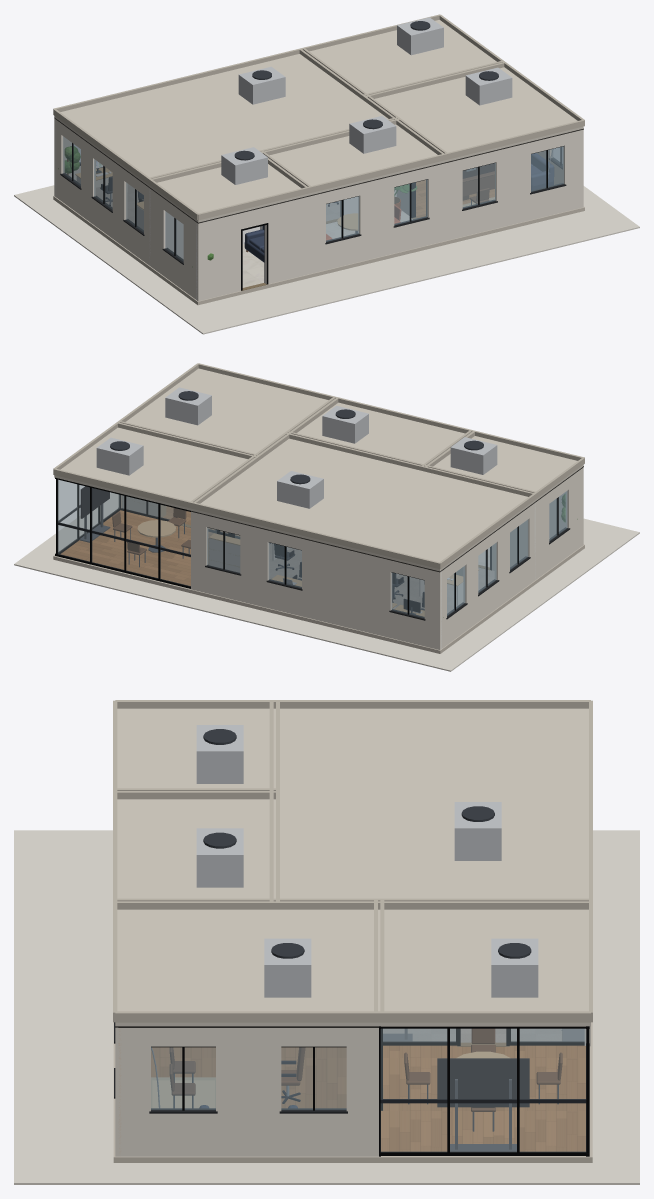
The model's file is sede-compacta.glb.
3 renders of one model, top to bottom at view 1: azimuth 30°, elevation 25°; view 2: azimuth 150°, elevation 25°; view 3: azimuth 270°, elevation 25°, orthographic. The views are drawn at different scales.
Parts seen in each view (by area): view 1: teto_malha, paredes_malha, terreno_malha, janelas_malha, esquadrias_malha, laje_malha, sofa_malha (×2), piso_porcelanato_malha, paredes_topo_malha, mesa-diretor_malha, piso_carpete_malha, piso_madeira_malha; view 2: teto_malha, paredes_malha, terreno_malha, divisorias_vidro_malha, janelas_malha, piso_madeira_malha, esquadrias_malha, laje_malha, piso_carpete_malha, estante_malha (×2), tv-pedestal_malha, paredes_topo_malha (+1 smaller); view 3: teto_malha, terreno_malha, paredes_malha, divisorias_vidro_malha, piso_madeira_malha, janelas_malha, esquadrias_malha, tv-pedestal_malha, laje_malha, piso_carpete_malha, tapete_malha.
Boxes of the visible parts, x1=… form: teto_malha: x1=53, y1=14, x2=584, y2=222; paredes_malha: x1=54, y1=118, x2=583, y2=301; terreno_malha: x1=14, y1=185, x2=639, y2=334; janelas_malha: x1=63, y1=136, x2=563, y2=261; esquadrias_malha: x1=60, y1=143, x2=566, y2=290; laje_malha: x1=53, y1=196, x2=584, y2=305; sofa_malha (×2): x1=244, y1=153, x2=553, y2=262; piso_porcelanato_malha: x1=242, y1=211, x2=412, y2=287; paredes_topo_malha: x1=54, y1=117, x2=583, y2=223; mesa-diretor_malha: x1=463, y1=163, x2=494, y2=200; piso_carpete_malha: x1=96, y1=184, x2=339, y2=223; piso_madeira_malha: x1=416, y1=180, x2=494, y2=217; teto_malha: x1=53, y1=363, x2=584, y2=571; paredes_malha: x1=118, y1=467, x2=583, y2=649; terreno_malha: x1=14, y1=493, x2=639, y2=671; divisorias_vidro_malha: x1=58, y1=479, x2=239, y2=586; janelas_malha: x1=207, y1=491, x2=567, y2=617; piso_madeira_malha: x1=61, y1=506, x2=239, y2=585; esquadrias_malha: x1=55, y1=477, x2=570, y2=620; laje_malha: x1=53, y1=544, x2=584, y2=653; piso_carpete_malha: x1=270, y1=543, x2=494, y2=613; estante_malha (×2): x1=122, y1=495, x2=239, y2=572; tv-pedestal_malha: x1=79, y1=486, x2=110, y2=542; paredes_topo_malha: x1=191, y1=466, x2=583, y2=572; teto_malha: x1=113, y1=700, x2=592, y2=1026; terreno_malha: x1=14, y1=830, x2=639, y2=1184; paredes_malha: x1=115, y1=1026, x2=590, y2=1156; divisorias_vidro_malha: x1=381, y1=1028, x2=585, y2=1151; piso_madeira_malha: x1=151, y1=1045, x2=585, y2=1151; janelas_malha: x1=151, y1=1047, x2=346, y2=1109; esquadrias_malha: x1=114, y1=1022, x2=589, y2=1156; tv-pedestal_malha: x1=437, y1=1058, x2=529, y2=1151; laje_malha: x1=113, y1=1022, x2=592, y2=1162; piso_carpete_malha: x1=383, y1=1028, x2=561, y2=1042; tapete_malha: x1=151, y1=1077, x2=215, y2=1107.
Size of the model in its own units: 16 by 3.81 by 12.
21 materials, 5 textured.
